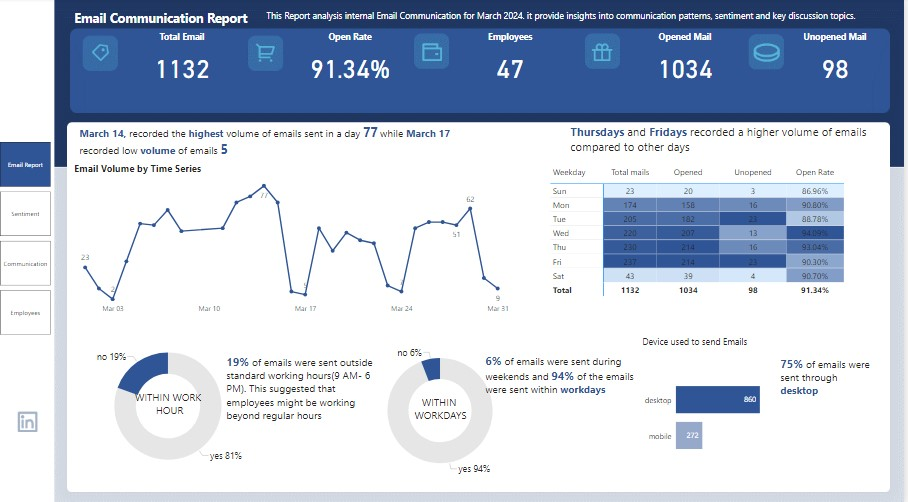

The dashboard page shown, as its layout file describes it:
{"tool":"powerbi","page":{"name":"Email Report","canvas":[1920,1080],"ordinal":0},"visuals":[{"type":"card","title":"Total Email","fields":{"Values":["DAX.email sent"]},"box":[263.6,70.2,246.6,125.4],"z":0},{"type":"card","title":"Employees","fields":{"Values":["DAX.Employees"]},"box":[960.9,70.2,246.6,125.4],"z":1000},{"type":"card","title":"Open Rate","fields":{"Values":["DAX.Open Rate"]},"box":[620.8,70.2,246.6,125.4],"z":2000},{"type":"card","title":"Opened Mail","fields":{"Values":["DAX.Open"]},"box":[1333,70.2,246.6,125.4],"z":3000},{"type":"card","title":"Unopened Mail","fields":{"Values":["DAX.Unopened"]},"box":[1673.1,70.2,204.1,125.4],"z":4000},{"type":"lineChart","title":"Email Volume by Time Series ","fields":{"Y":["DAX.email sent"],"Category":["Calander.Date.Variation.Date Hierarchy.Year","Calander.Date.Variation.Date Hierarchy.Quarter","Calander.Date.Variation.Date Hierarchy.Month","Calander.Date.Variation.Date Hierarchy.Day"]},"box":[153.1,348.7,933.3,331.7],"z":5000},{"type":"pivotTable","fields":{"Rows":["Calander.Weekday"],"Values":["DAX.email sent","DAX.Open","DAX.Unopened","DAX.Open Rate"]},"box":[1165,348.7,725,299.8],"z":6000},{"type":"barChart","title":"Device used to send Emails","fields":{"Category":["emails- fact table.Device"],"Y":["DAX.email sent"]},"box":[1360.6,718.6,293.4,316.8],"z":7000},{"type":"donutChart","fields":{"Category":["emails- fact table.Within work hours"],"Y":["DAX.email sent"]},"box":[153.1,699.4,408.2,335.9],"z":8000},{"type":"donutChart","fields":{"Y":["DAX.email sent"],"Category":["emails- fact table.Within workdays"]},"box":[716.5,718.6,438,316.8],"z":9000},{"type":"textbox","box":[476.2,750.5,333.8,157.3],"z":10000},{"type":"textbox","box":[1026.9,748.3,333.8,157.3],"z":11000},{"type":"textbox","box":[1654,754.7,204.1,170.1],"z":12000},{"type":"textbox","box":[263.6,829.1,193.5,74.4],"z":13000},{"type":"textbox","box":[867.4,839.8,138.2,74.4],"z":14000},{"type":"textbox","box":[1207.6,261.5,693.1,102],"z":15000},{"type":"textbox","box":[163.7,261.5,863.1,87.2],"z":16000},{"type":"textbox","box":[129.7,19.1,431.6,51],"z":16001},{"type":"textbox","box":[561.3,19.1,1316,51],"z":16002},{"type":"pageNavigator","box":[0,306.1,108.4,412.4],"z":16003}]}

Visuals, with their boxes on the page's 1920x1080 design canvas (x1, y1, x2, y2). These are canvas units, not pixel positions in the 908x502 screenshot, which may show the page scaled, cropped or inside an application window:
"Total Email" card: <bbox>264, 70, 510, 196</bbox>
"Employees" card: <bbox>961, 70, 1208, 196</bbox>
"Open Rate" card: <bbox>621, 70, 867, 196</bbox>
"Opened Mail" card: <bbox>1333, 70, 1580, 196</bbox>
"Unopened Mail" card: <bbox>1673, 70, 1877, 196</bbox>
"Email Volume by Time Series " lineChart: <bbox>153, 349, 1086, 680</bbox>
pivotTable - Calander.Weekday x DAX.email sent: <bbox>1165, 349, 1890, 648</bbox>
"Device used to send Emails" barChart: <bbox>1361, 719, 1654, 1035</bbox>
donutChart - emails- fact table.Within work hours x DAX.email sent: <bbox>153, 699, 561, 1035</bbox>
donutChart - DAX.email sent x emails- fact table.Within workdays: <bbox>716, 719, 1154, 1035</bbox>
textbox: <bbox>476, 750, 810, 908</bbox>
textbox: <bbox>1027, 748, 1361, 906</bbox>
textbox: <bbox>1654, 755, 1858, 925</bbox>
textbox: <bbox>264, 829, 457, 904</bbox>
textbox: <bbox>867, 840, 1006, 914</bbox>
textbox: <bbox>1208, 262, 1901, 364</bbox>
textbox: <bbox>164, 262, 1027, 349</bbox>
textbox: <bbox>130, 19, 561, 70</bbox>
textbox: <bbox>561, 19, 1877, 70</bbox>
pageNavigator: <bbox>0, 306, 108, 718</bbox>
